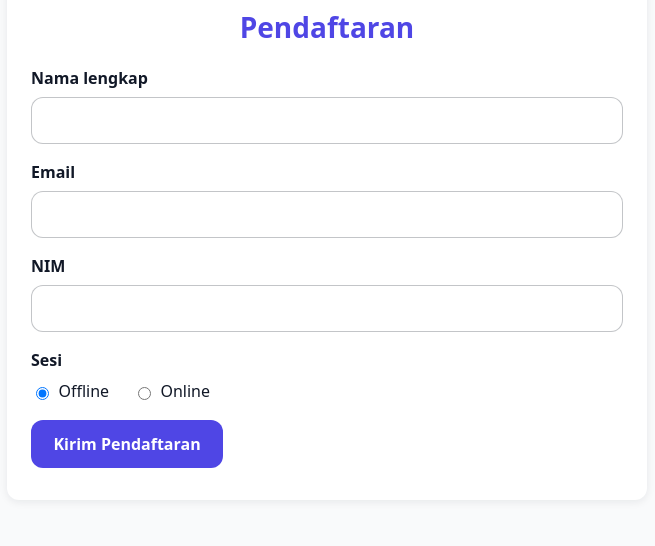
Pendaftaran (LP-2) › shows only the error for the single invalid field and keeps values (LP2-AC-12, 13)
Type "Budi Santoso" into the field labelled "Nama lengkap" at (327, 120), box [31,97,623,144]
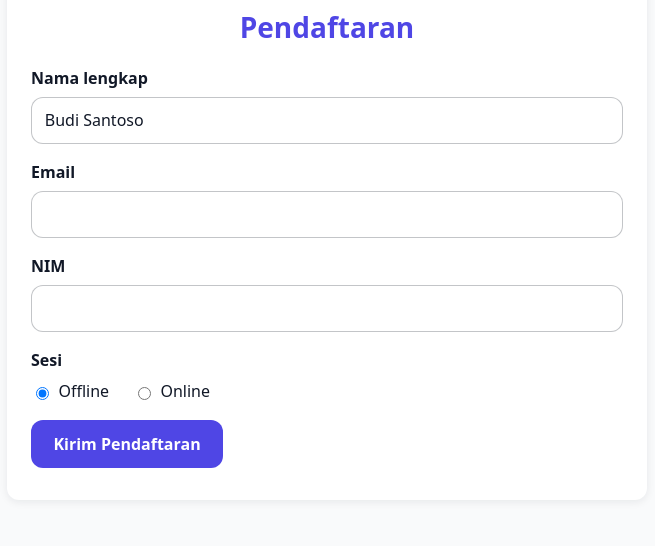
Type "budi@kampus.ac.id" into the field labelled "Email" at (327, 214), box [31,191,623,238]
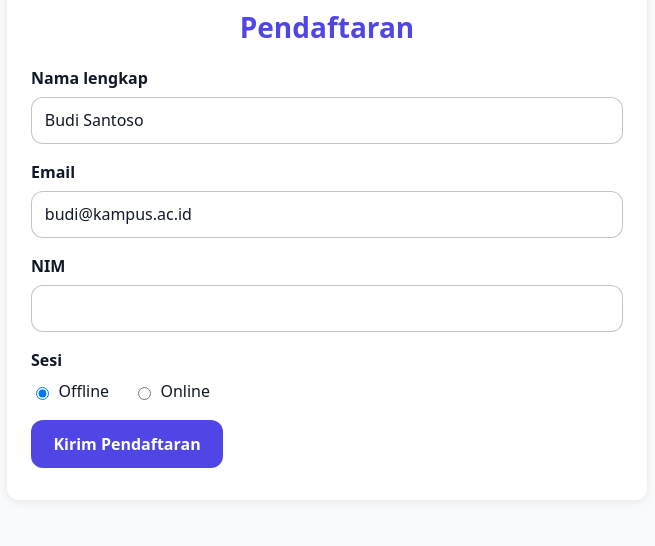
Type "123" into the field labelled "NIM" at (327, 308), box [31,285,623,332]
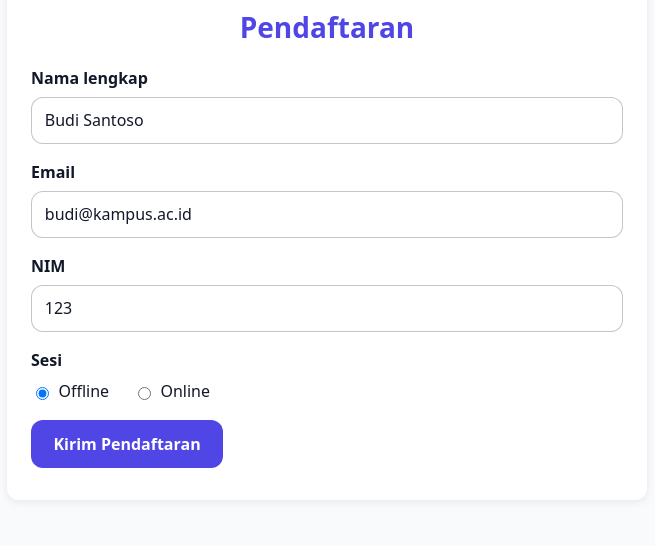
Click the button "Kirim Pendaftaran" at (127, 444), box [31,420,223,468]
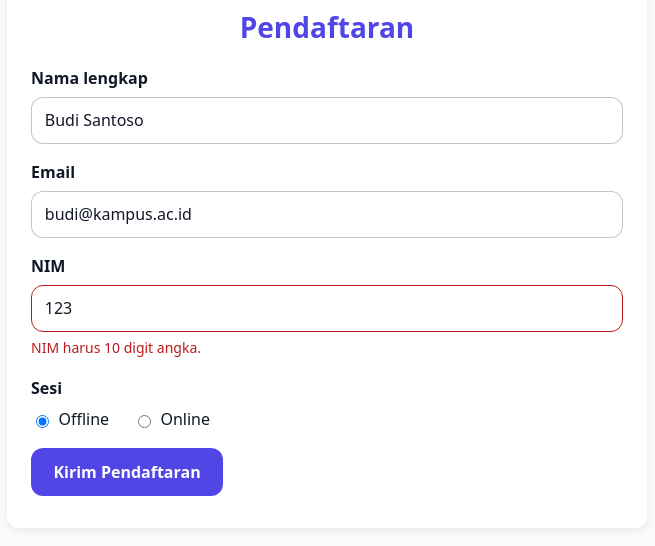
expect the text "NIM harus 10 digit angka." is shown: met, box [31,338,201,357]
